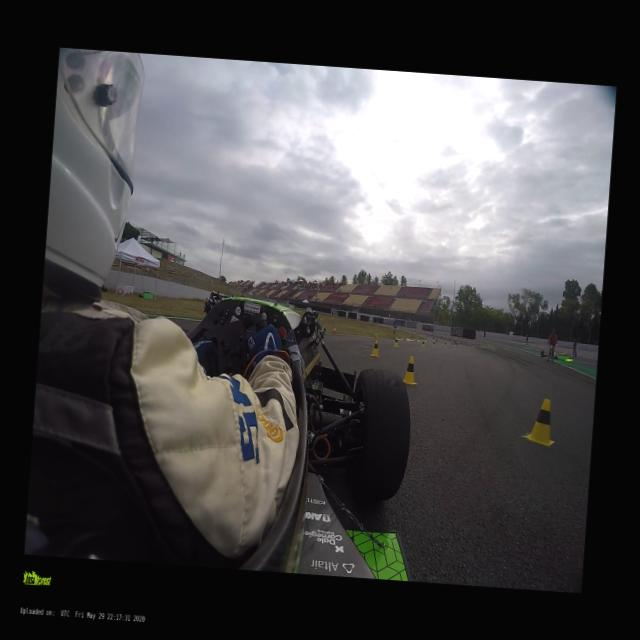orange_cone: (332, 326, 336, 335), (372, 332, 377, 338), (414, 336, 418, 341), (403, 336, 406, 340)
yellow_cone: (523, 396, 558, 446), (398, 354, 418, 386), (368, 338, 379, 358), (372, 336, 379, 349), (393, 336, 398, 346), (420, 339, 424, 347), (442, 341, 447, 346), (431, 340, 435, 346)
